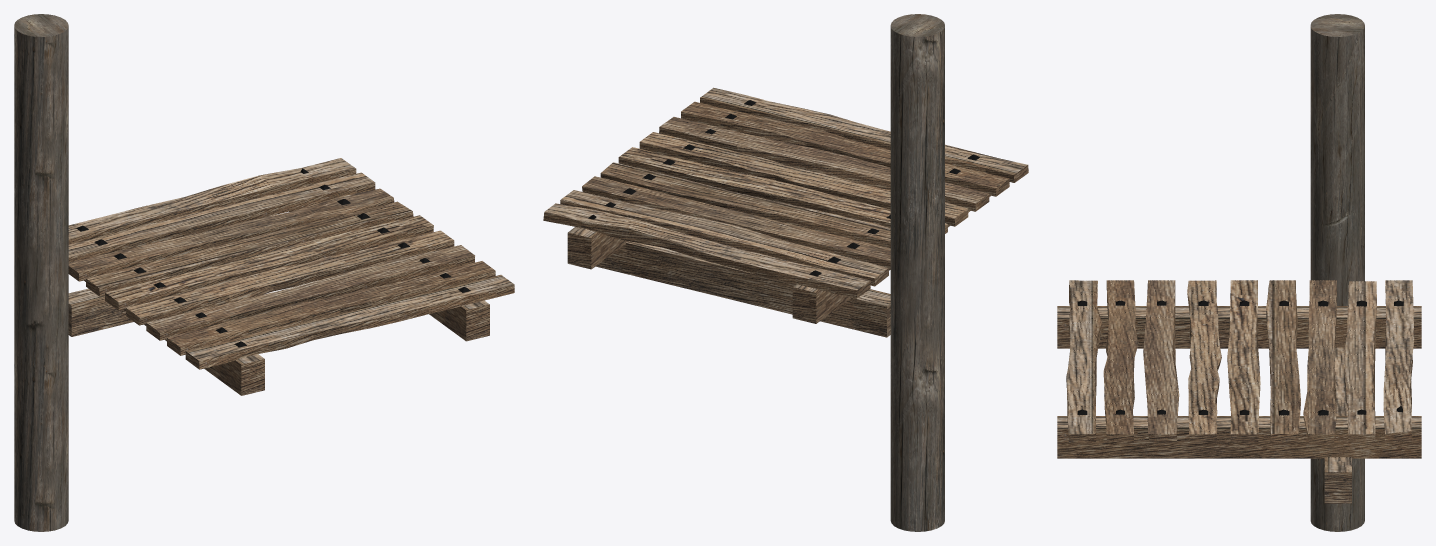
Rendered from kit plataforma.fbx.
3 renders of one model, left to right at view 1: azimuth 30°, elevation 25°; view 2: azimuth 150°, elevation 25°; view 3: azimuth 270°, elevation 25°, orthographic.
Visible parts, largest first — view 1: plataforma 4x4, poste .3x6, viga; view 2: plataforma 4x4, poste .3x6, viga; view 3: plataforma 4x4, poste .3x6, viga.
Boxes of the visible parts, left/top/right/bottom form: plataforma 4x4: left=68, top=158, right=514, bottom=395; poste .3x6: left=14, top=14, right=68, bottom=531; viga: left=68, top=288, right=133, bottom=336; plataforma 4x4: left=543, top=87, right=1028, bottom=323; poste .3x6: left=890, top=14, right=944, bottom=531; viga: left=574, top=227, right=890, bottom=337; plataforma 4x4: left=1057, top=280, right=1421, bottom=458; poste .3x6: left=1310, top=14, right=1364, bottom=531; viga: left=1324, top=347, right=1351, bottom=503.
Bounding box in the file's own units: 460 × 600 × 400.
3 materials, 2 textured.
